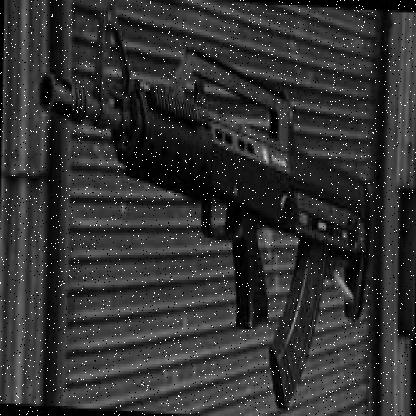rifle: (29, 40, 381, 406)
